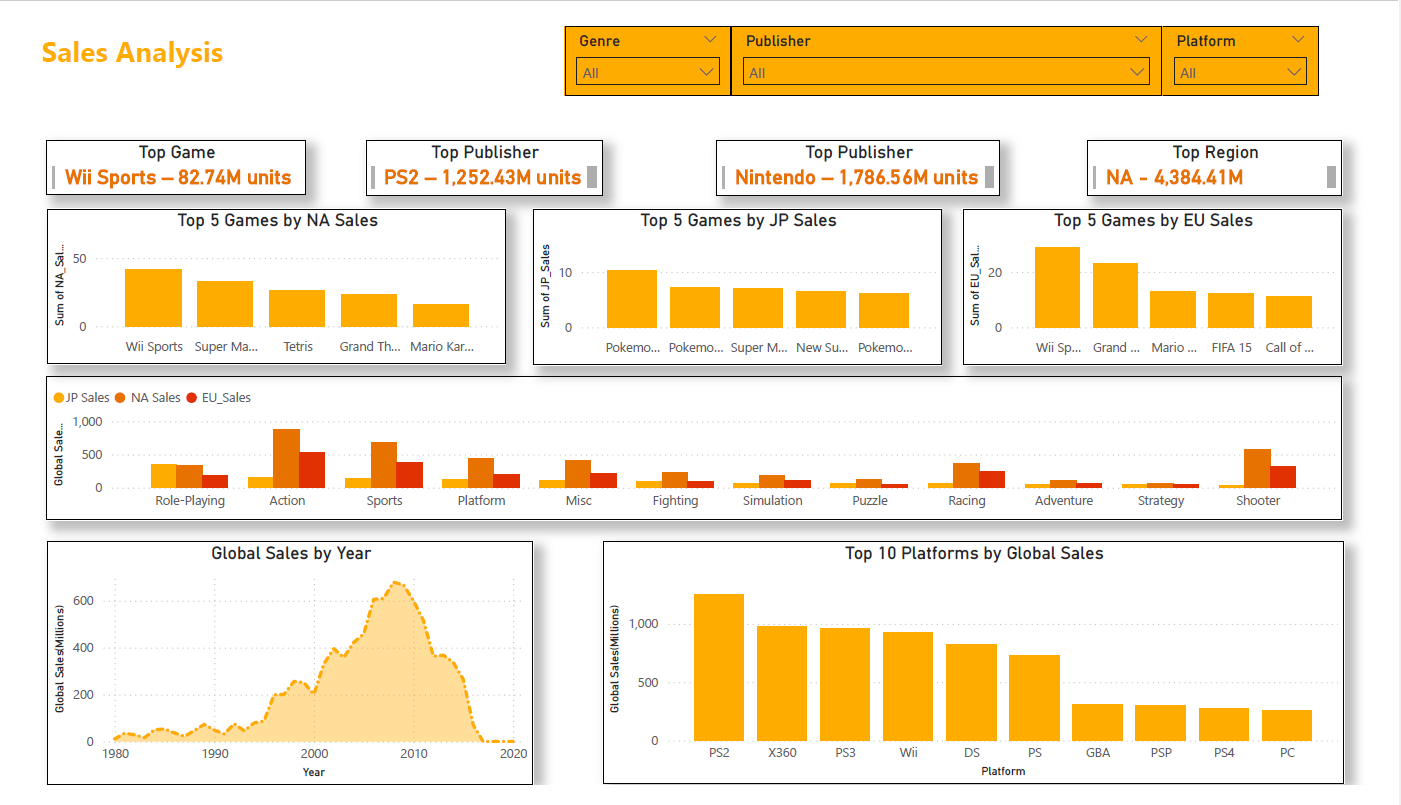

The dashboard page shown, as its layout file describes it:
{"tool":"powerbi","page":{"name":"Page 1","canvas":[1280,720],"ordinal":0},"visuals":[{"type":"lineChart","title":"Global Sales by Year","fields":{"Category":["RawData.Year"],"Y":["Sum(RawData.Global_Sales)"]},"box":[22,488.5,461.1,231.9],"z":0},{"type":"slicer","fields":{"Values":["RawData.Genre"]},"box":[513.1,0,158.2,65.6],"z":1000},{"type":"slicer","fields":{"Values":["RawData.Platform"]},"box":[1080.4,0,148.2,65.6],"z":2000},{"type":"slicer","fields":{"Values":["RawData.Publisher"]},"box":[671.4,0,409.1,65.6],"z":3000},{"type":"multiRowCard","title":"Top Game","fields":{"Values":["RawData.TopGameAndSales"]},"box":[21.1,108.2,246.3,52.2],"z":4000},{"type":"multiRowCard","title":"Top Publisher","fields":{"Values":["RawData.TopPlatformAndSales"]},"box":[323.8,108.4,225,52.1],"z":5000},{"type":"multiRowCard","title":"Top Publisher","fields":{"Values":["RawData.TopPublisherAndSales"]},"box":[657.3,108.4,269,52.1],"z":6000},{"type":"multiRowCard","title":"Top Region","fields":{"Values":["RawData.Top Region Summary"]},"box":[1008.6,108.4,242.9,52.1],"z":7000},{"type":"clusteredColumnChart","fields":{"Category":["RawData.Genre"],"Y":["Sum(RawData.JP_Sales)","Sum(RawData.NA_Sales)","Sum(RawData.EU_Sales)"]},"box":[20.6,332.1,1230.9,137.2],"z":8000},{"type":"textbox","box":[4.1,0,262.1,65.9],"z":9000},{"type":"clusteredColumnChart","title":"Top 10 Platforms by Global Sales","fields":{"Category":["RawData.Platform"],"Y":["Sum(RawData.Global_Sales)"]},"box":[548.9,488.5,703.9,230.5],"z":10000},{"type":"lineClusteredColumnComboChart","title":"Top 5 Games by NA Sales","fields":{"Category":["RawData.Name"],"Y":["Sum(RawData.NA_Sales)"]},"box":[22,172.9,435,148.2],"z":11000},{"type":"lineStackedColumnComboChart","title":"Top 5 Games by JP Sales","fields":{"Y":["Sum(RawData.JP_Sales)"],"Category":["RawData.Name"]},"box":[483,172.9,388.3,149.6],"z":12000},{"type":"columnChart","title":"Top 5 Games by EU Sales","fields":{"Y":["Sum(RawData.EU_Sales)"],"Category":["RawData.Name"]},"box":[890.6,172.9,360.9,149.6],"z":13000}]}

Visuals, with their boxes in screenshot pixels (x1, y1, x2, y2), scaled from the page's 1280x720 canvas onto the 1401x805 screenshot:
"Global Sales by Year" lineChart: (left=24, top=546, right=529, bottom=804)
slicer - RawData.Genre: (left=562, top=0, right=735, bottom=73)
slicer - RawData.Platform: (left=1183, top=0, right=1345, bottom=73)
slicer - RawData.Publisher: (left=735, top=0, right=1183, bottom=73)
"Top Game" multiRowCard: (left=23, top=121, right=293, bottom=179)
"Top Publisher" multiRowCard: (left=354, top=121, right=601, bottom=179)
"Top Publisher" multiRowCard: (left=719, top=121, right=1014, bottom=179)
"Top Region" multiRowCard: (left=1104, top=121, right=1370, bottom=179)
clusteredColumnChart - RawData.Genre x Sum(RawData.JP_Sales): (left=23, top=371, right=1370, bottom=525)
textbox: (left=4, top=0, right=291, bottom=74)
"Top 10 Platforms by Global Sales" clusteredColumnChart: (left=601, top=546, right=1371, bottom=804)
"Top 5 Games by NA Sales" lineClusteredColumnComboChart: (left=24, top=193, right=500, bottom=359)
"Top 5 Games by JP Sales" lineStackedColumnComboChart: (left=529, top=193, right=954, bottom=361)
"Top 5 Games by EU Sales" columnChart: (left=975, top=193, right=1370, bottom=361)
